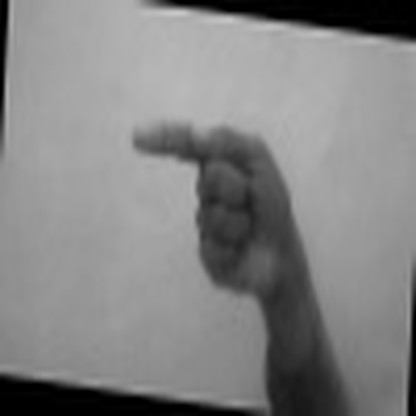g: (109, 104, 308, 292)
